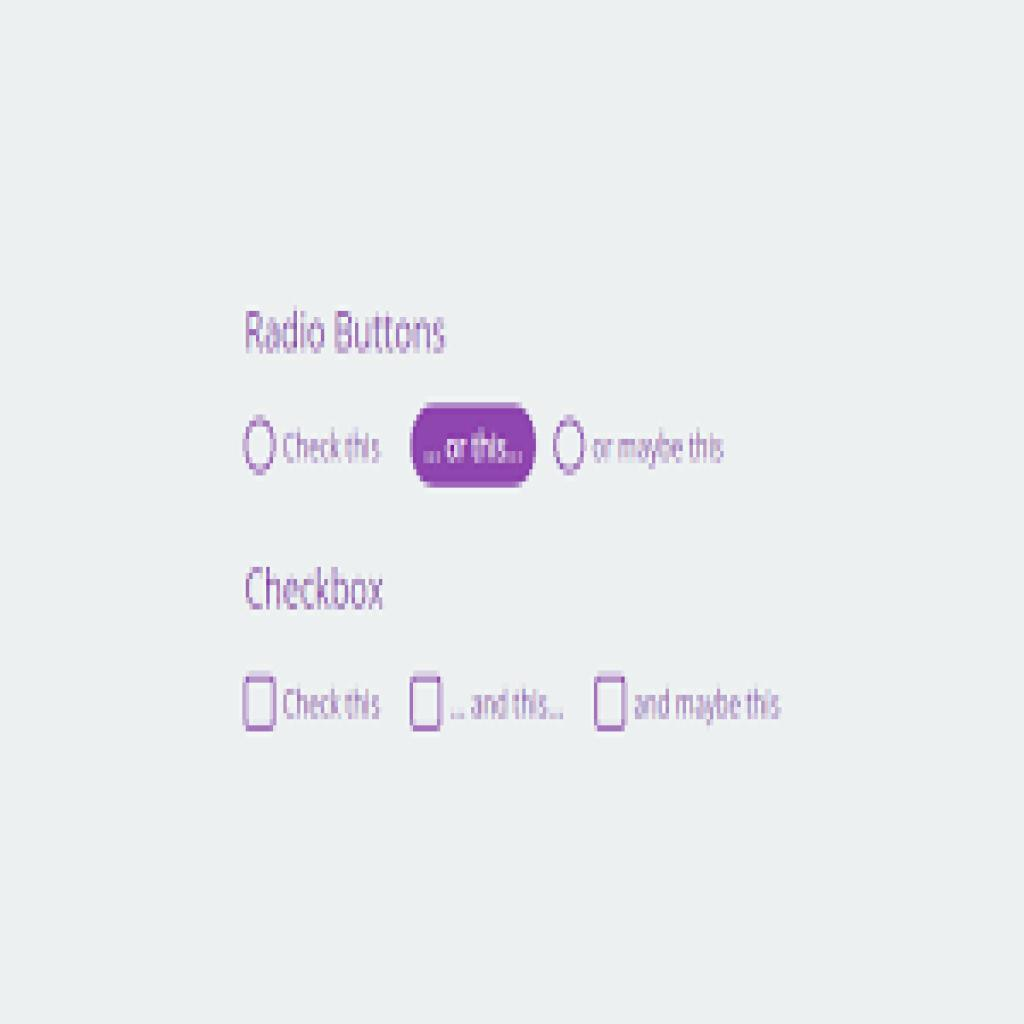button: (411, 401, 539, 490)
checkbox: (595, 677, 629, 733), (245, 676, 279, 732), (411, 678, 444, 735)
radio: (241, 415, 278, 482), (553, 415, 590, 479)
